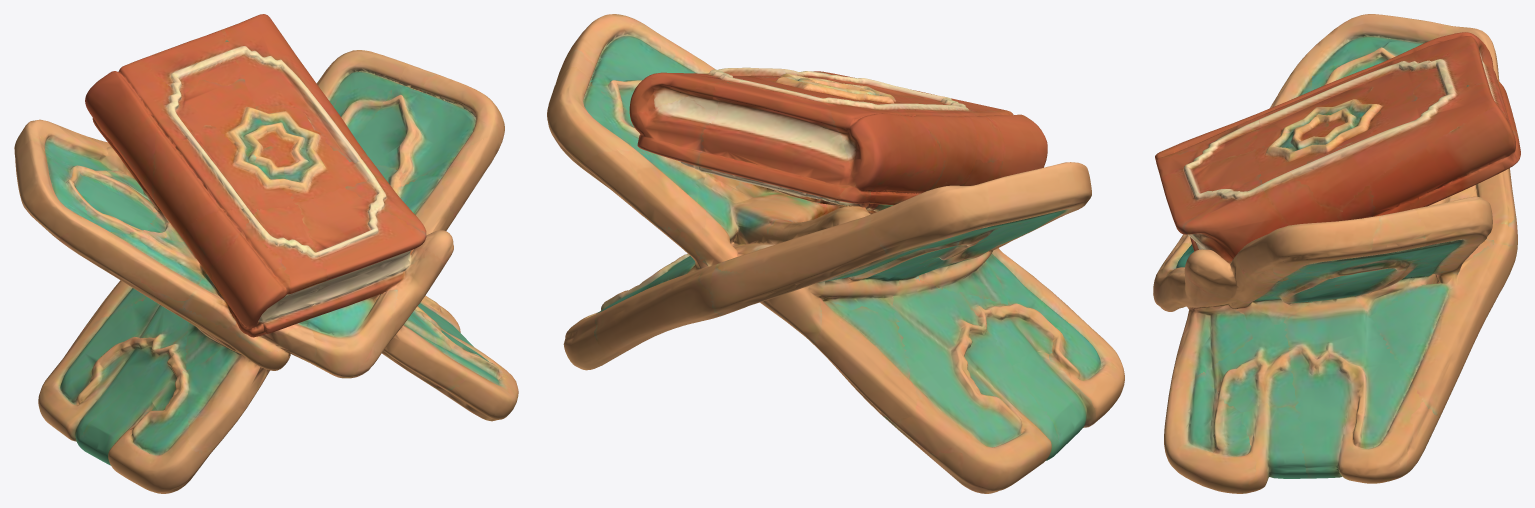
File: rehal-quran-variant-03-closed-terracotta-book.glb
3 renders of one model, left to right at view 1: azimuth 30°, elevation 25°; view 2: azimuth 150°, elevation 25°; view 3: azimuth 270°, elevation 25°, orthographic. The views are drawn at different scales.
Visible parts, largest first — view 1: mesh_node; view 2: mesh_node; view 3: mesh_node.
Part boxes in pixels (x1=…): mesh_node: x1=14, y1=14, x2=518, y2=493; mesh_node: x1=547, y1=14, x2=1124, y2=493; mesh_node: x1=1153, y1=14, x2=1520, y2=493.
Bounding box in the file's own units: 1.9 × 1.32 × 1.32.
Materials: 1 (1 with a texture image).
